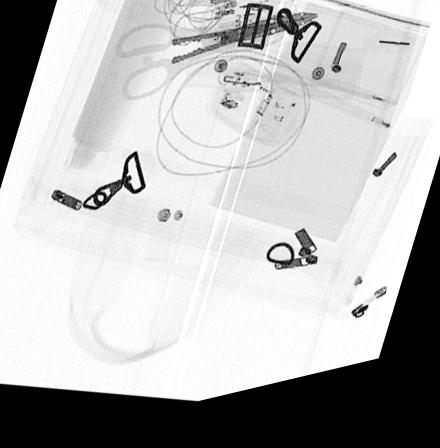Scissors: (111, 26, 323, 109)
